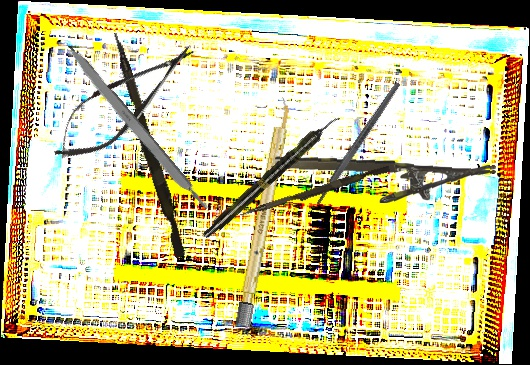Handpiece: (199, 111, 344, 242)
Micro Scissor: (38, 26, 210, 176)
Needle Holder: (273, 154, 496, 209)
Pusher: (103, 31, 192, 259), (239, 161, 391, 223)
Scalpel Handle: (62, 42, 211, 216), (234, 96, 295, 329), (314, 81, 402, 206)
